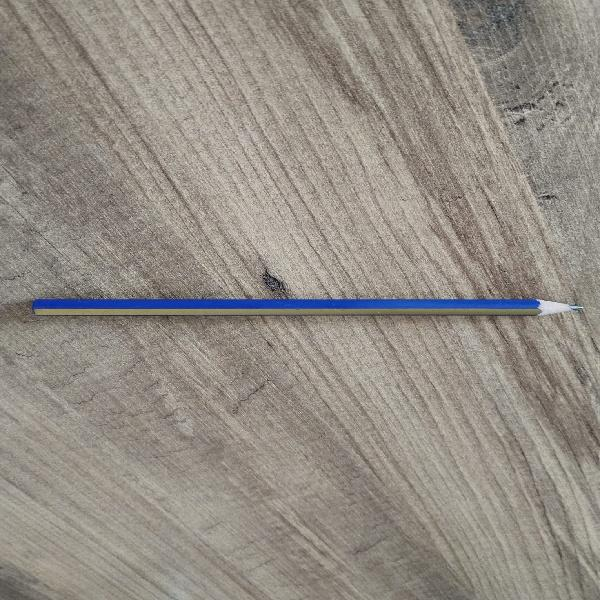pencil: (32, 299, 582, 315)
